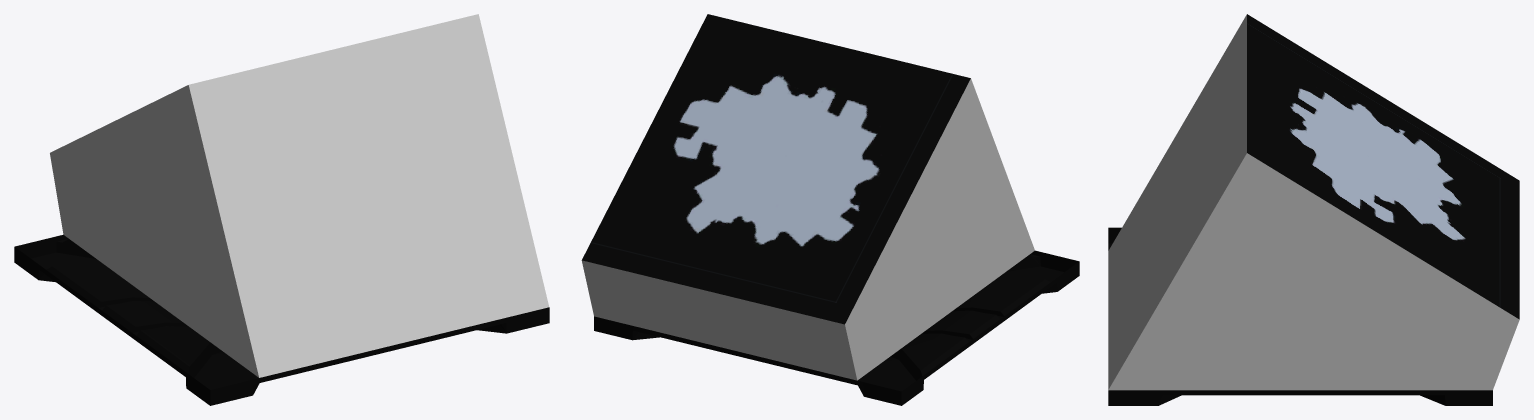
The model's file is arched_broken_onlyhole.dae.
The picture shows the model from 3 angles, left to right: view 1: azimuth 30°, elevation 25°; view 2: azimuth 150°, elevation 25°; view 3: azimuth 270°, elevation 25°; orthographic projection. The views are drawn at different scales.
Visible parts, largest first — view 1: polySurface24, polySurface25; view 2: polySurface23, polySurface24, polySurface25; view 3: polySurface24, polySurface23, polySurface25.
Boxes of the visible parts, <box> form: polySurface24: <box>50,14,548,377</box>; polySurface25: <box>14,234,549,405</box>; polySurface23: <box>582,14,970,324</box>; polySurface24: <box>581,79,1034,380</box>; polySurface25: <box>594,250,1079,405</box>; polySurface24: <box>1108,14,1519,390</box>; polySurface23: <box>1247,14,1519,319</box>; polySurface25: <box>1108,227,1492,405</box>.
Bounding box in the file's own units: 11.41 × 8.18 × 10.7.
